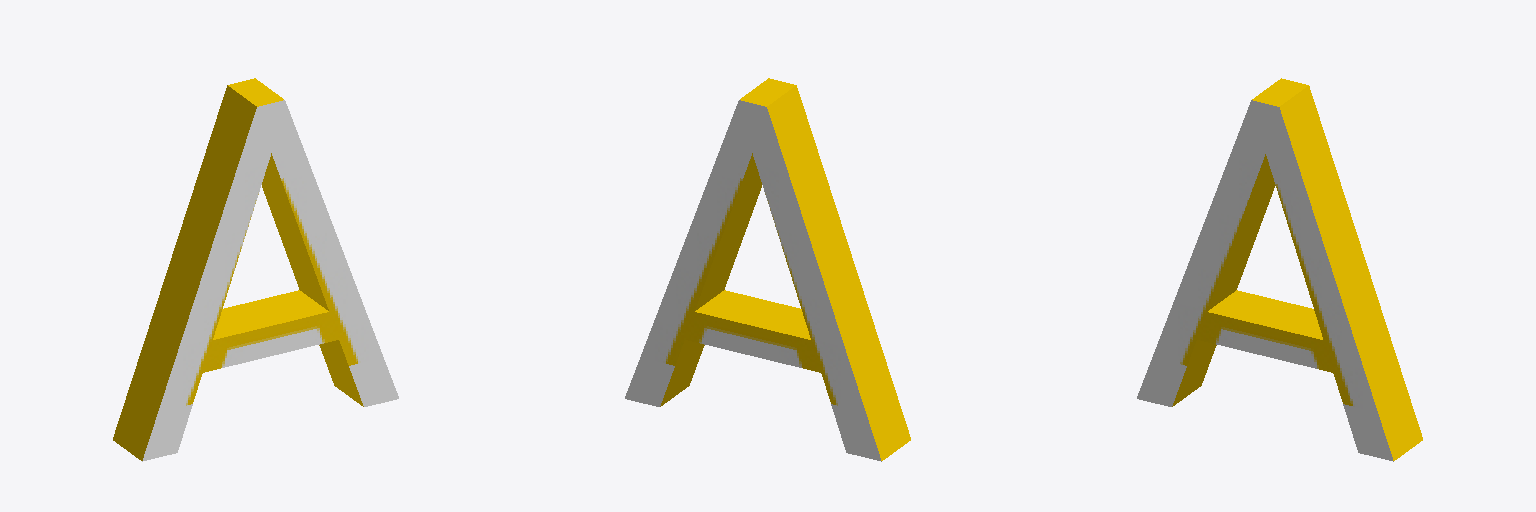
3 renders of one model, left to right at view 1: azimuth 30°, elevation 25°; view 2: azimuth 150°, elevation 25°; view 3: azimuth 330°, elevation 25°, orthographic.
Size of the model in its own units: 66.47 by 80.63 by 13.29.
5 materials, 1 textured.